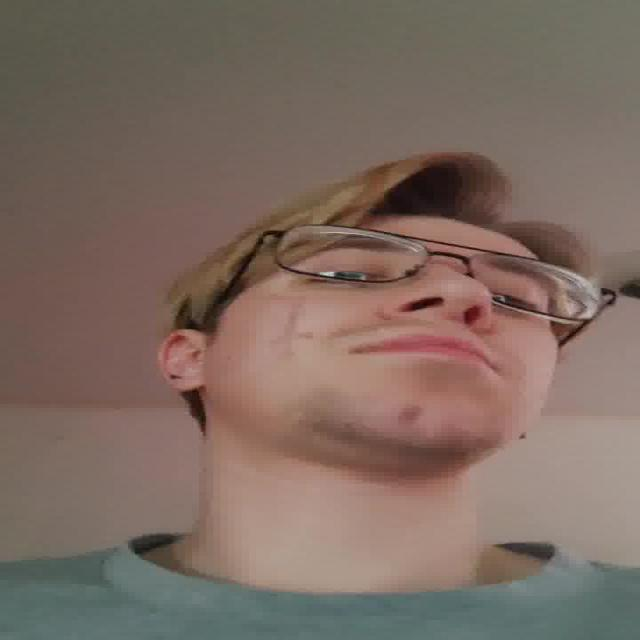earlobe: (167, 377, 207, 394)
eye: (296, 266, 390, 285), (486, 290, 543, 313)
nose: (396, 306, 491, 338)
wholeear: (157, 329, 207, 393)
